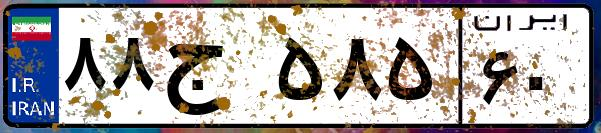0: (525, 38, 570, 115)
5: (270, 28, 330, 110), (385, 28, 445, 110)
6: (475, 38, 525, 113)
8: (330, 28, 385, 110), (57, 26, 110, 100), (110, 28, 158, 98)
ج: (158, 20, 270, 120)
